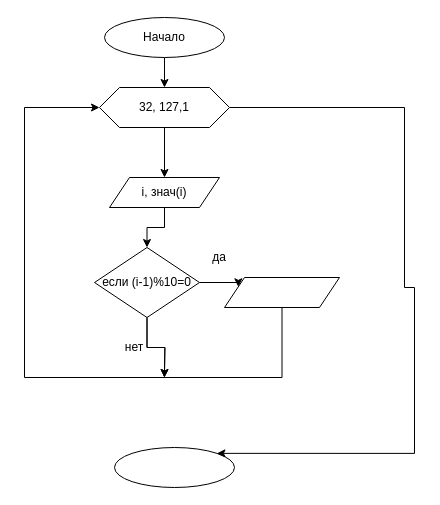
This 440x505 diagram has some shape labels left out. Each missing label, with the centre of its shape:
Конец: [174,467]
новая строка: [282,292]
